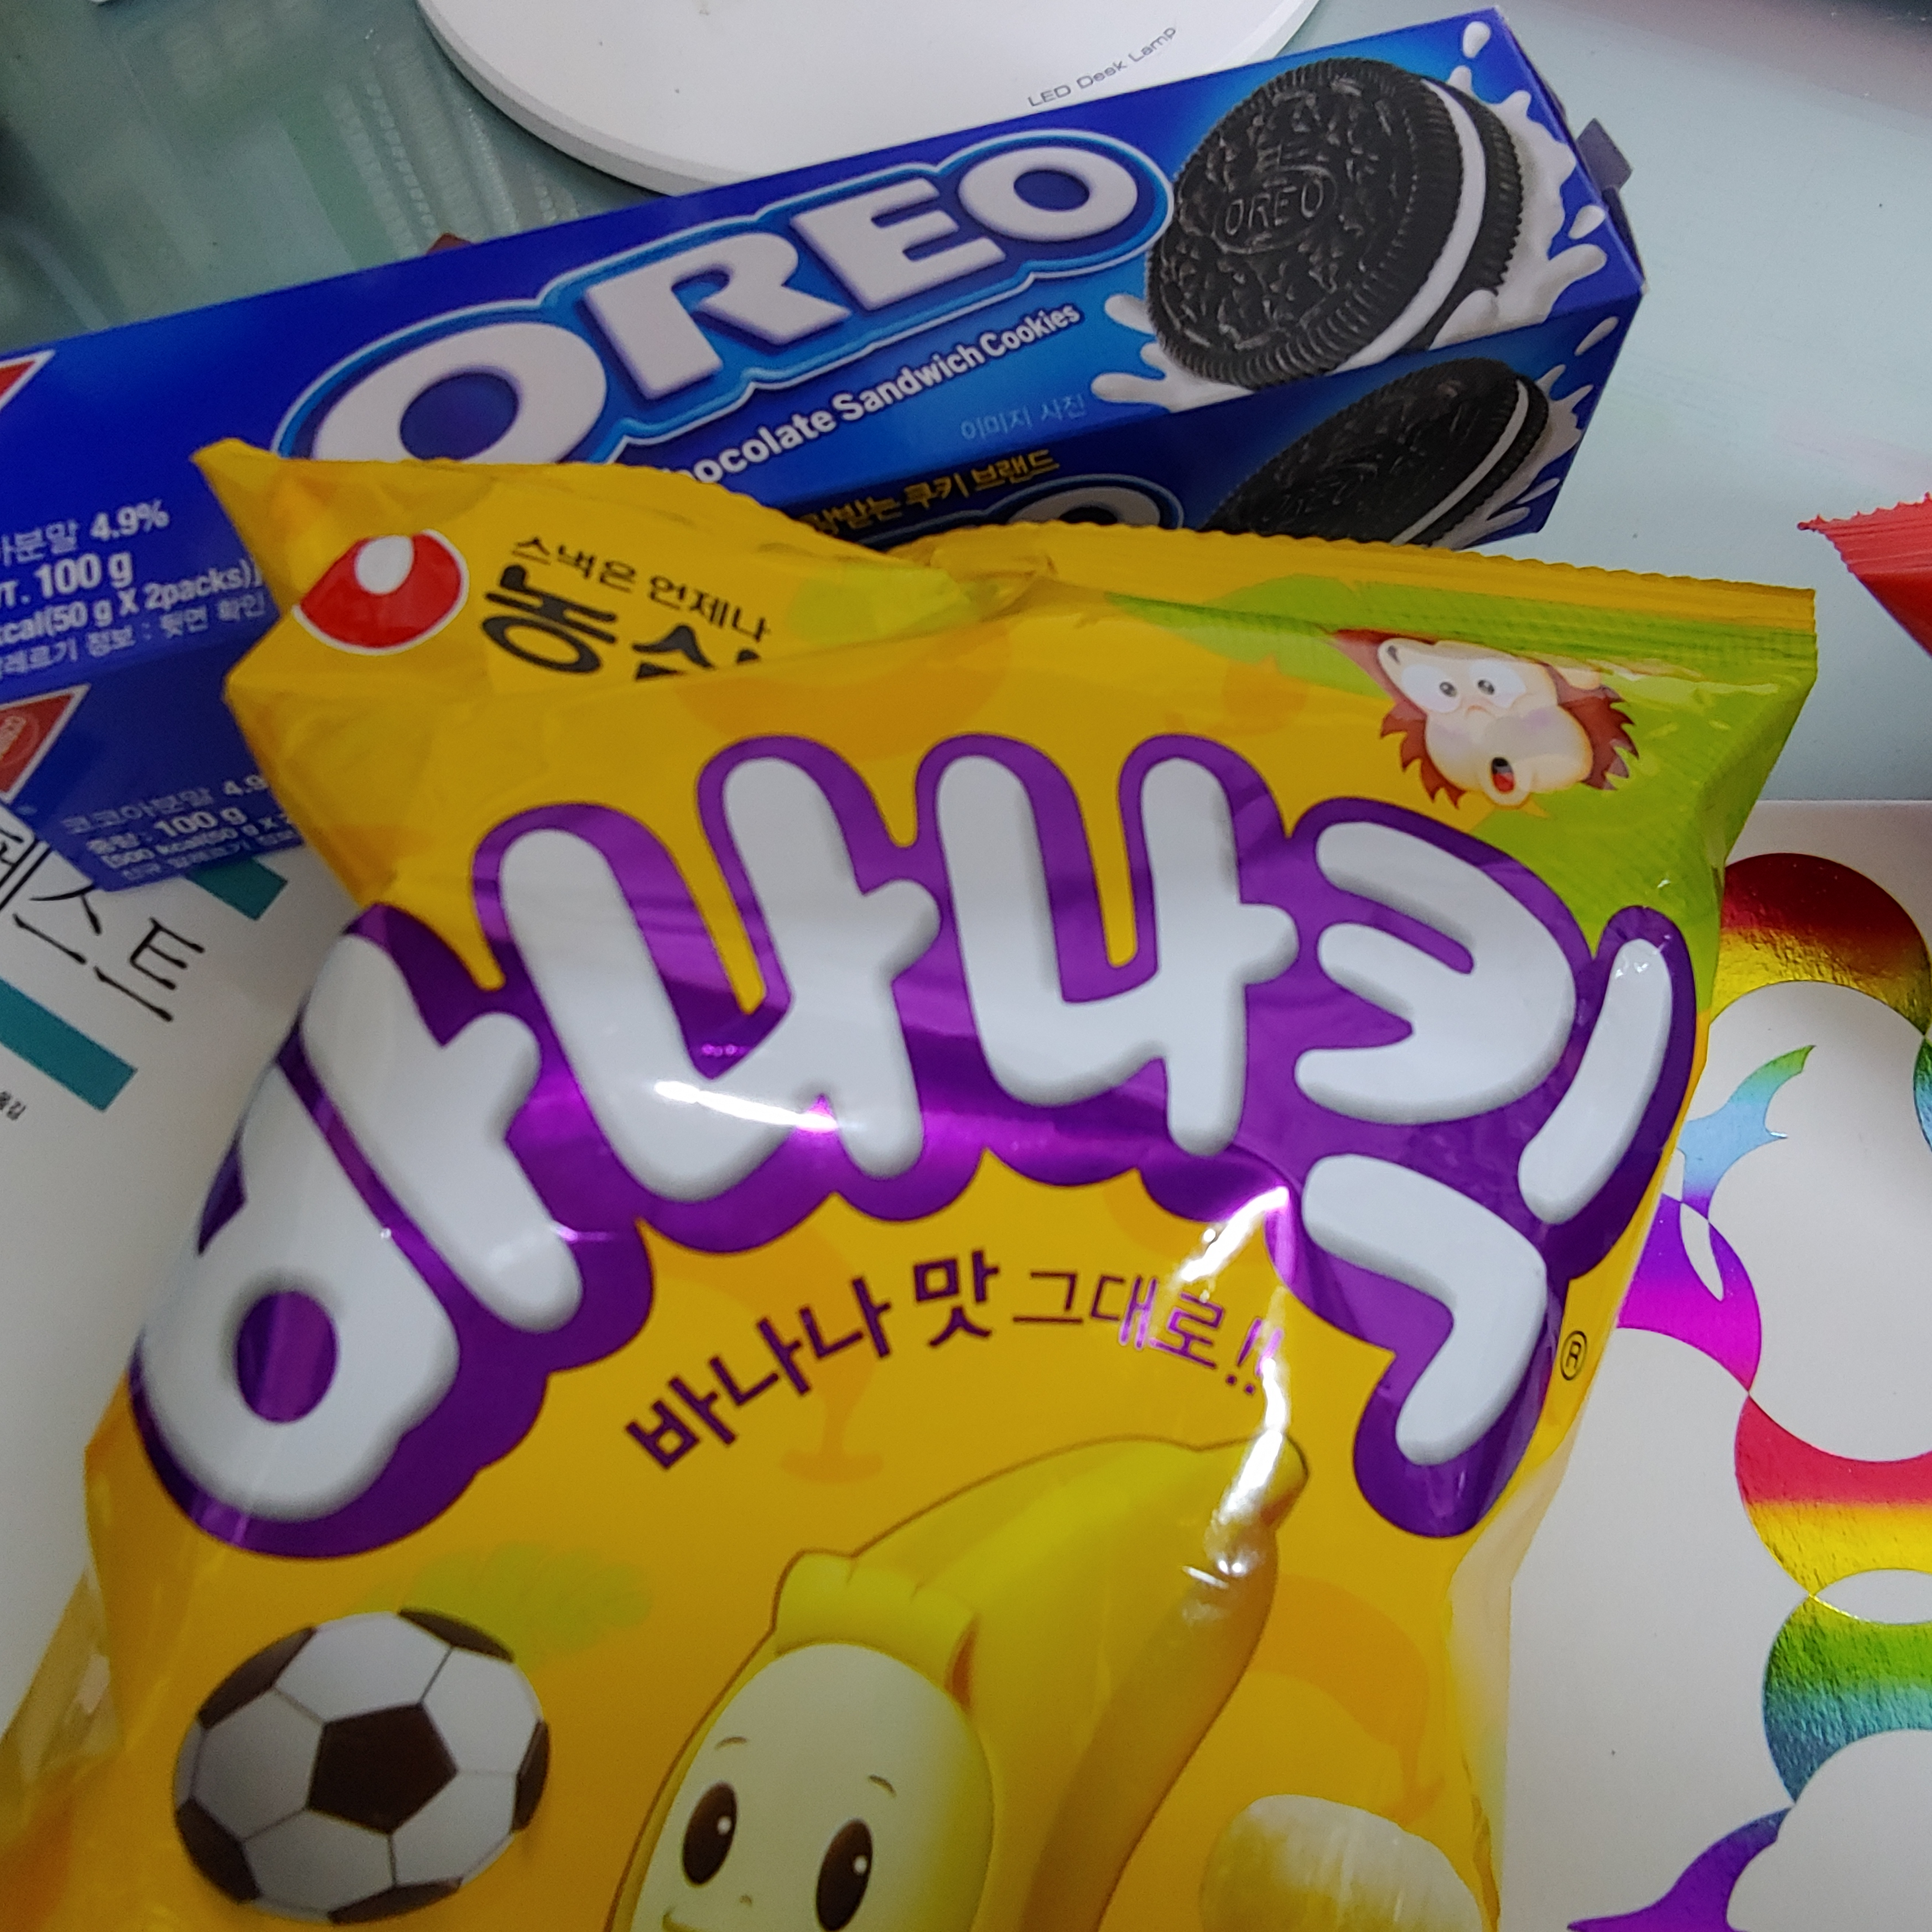banana: (85, 379, 1833, 1932)
oreo: (7, 2, 1739, 911)
